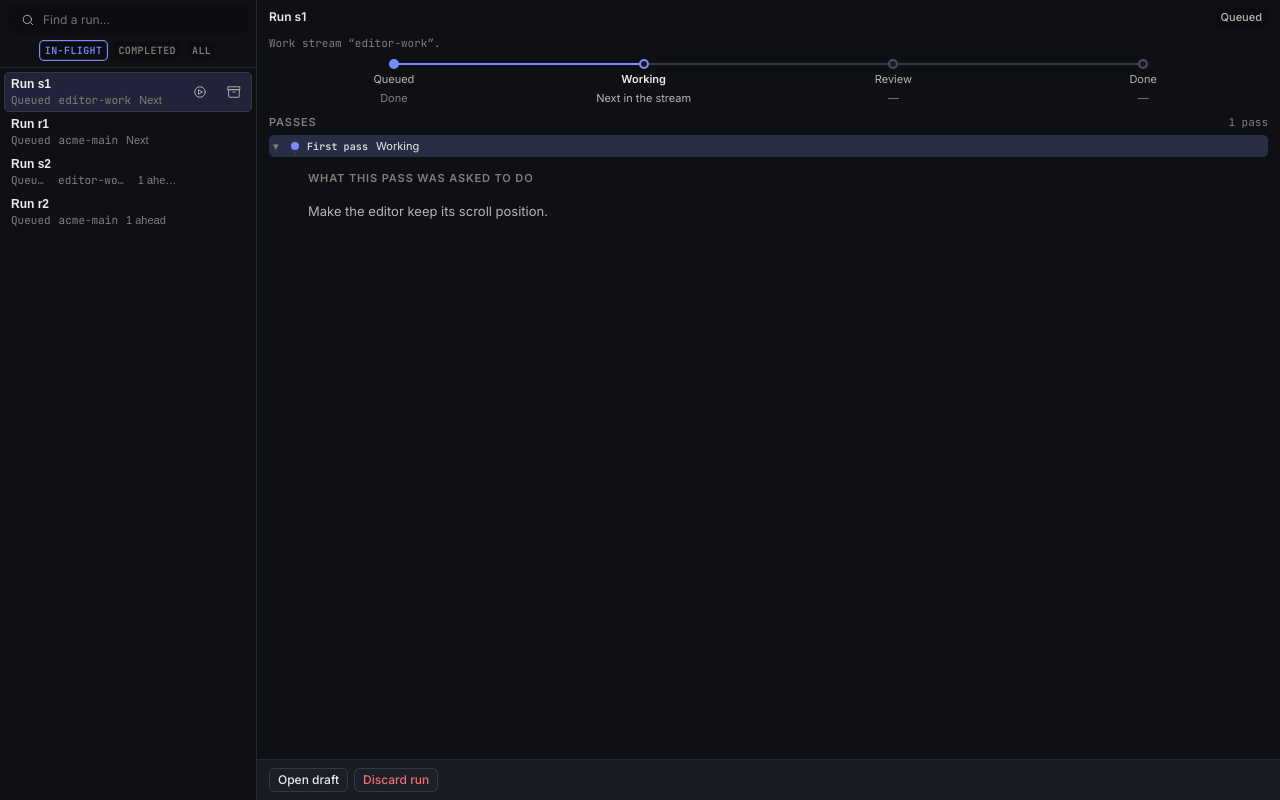
a direct run in its queue › GRU-FR-HKBD: a queued direct run counts its place in its worktree's queue alone
Click the button "Run r2 Queued acme-main 1 ahead": click(94, 212) [5,193,183,231]
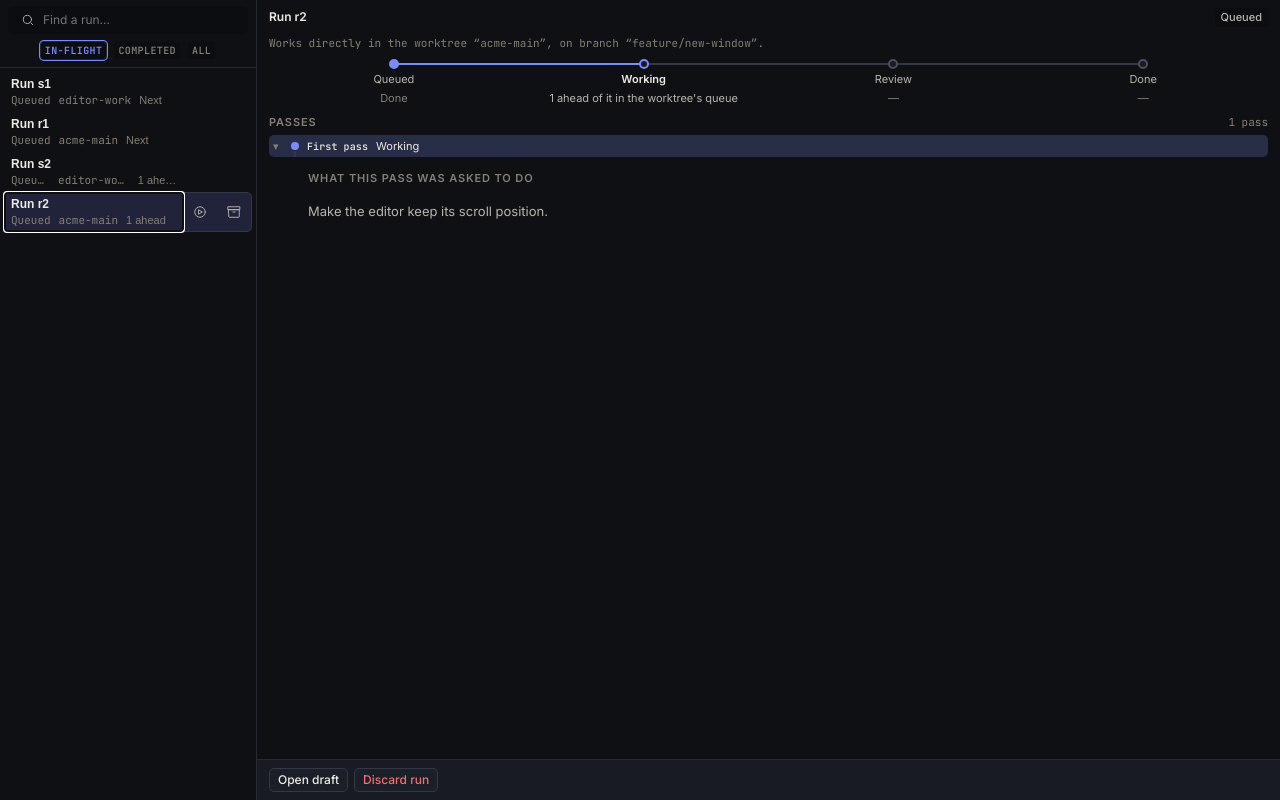
Expected: the element with test id "run-progress" shows "1 ahead of it in the worktree's queue", [549,90,738,104]
